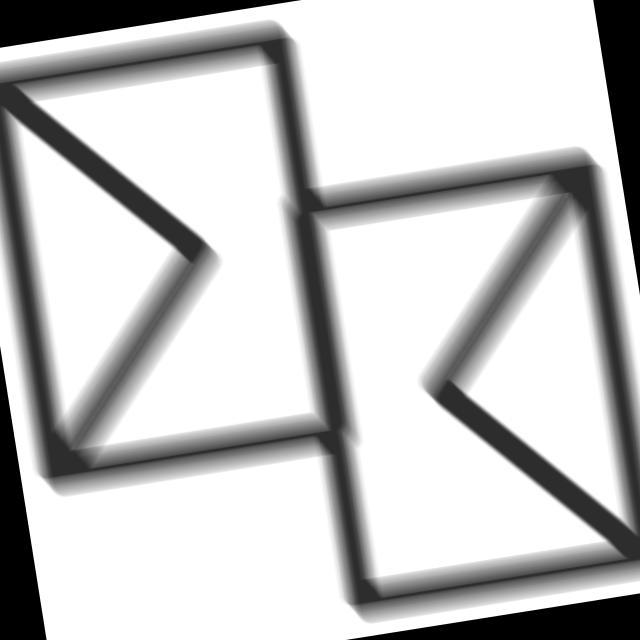letter: (1, 7, 387, 521), (275, 135, 640, 627)
